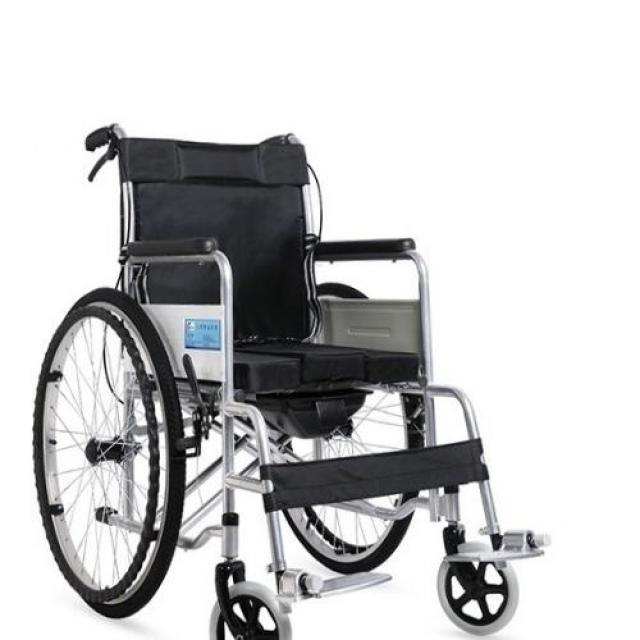wheelchair: (2, 104, 574, 640)
